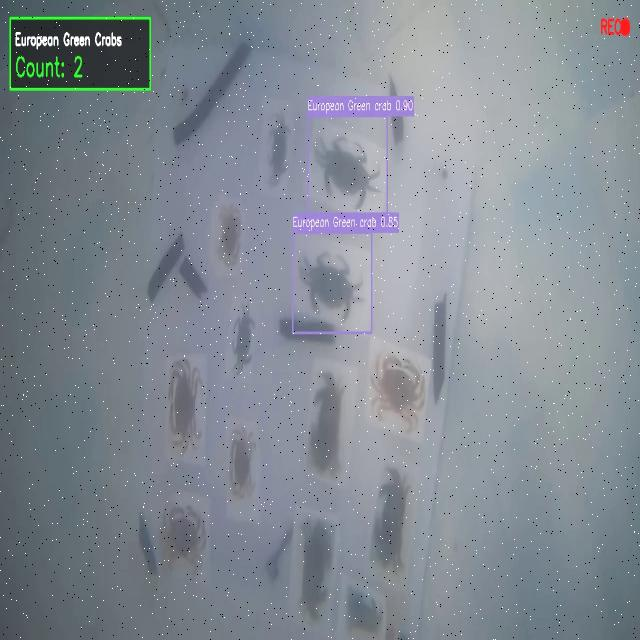European_Green_Crab: (311, 121, 385, 219), (296, 245, 370, 331), (260, 103, 291, 189), (230, 290, 257, 373)
